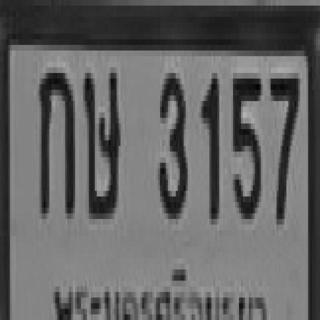A01: (38, 62, 73, 213)
A39: (81, 62, 118, 213)
N01: (200, 70, 217, 216)
N03: (156, 67, 186, 213)
N05: (231, 67, 259, 213)
N07: (269, 67, 298, 219)
